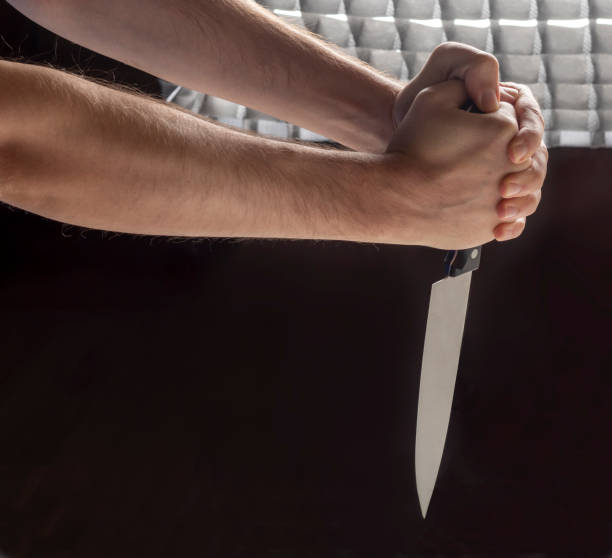knife: (412, 249, 483, 524)
